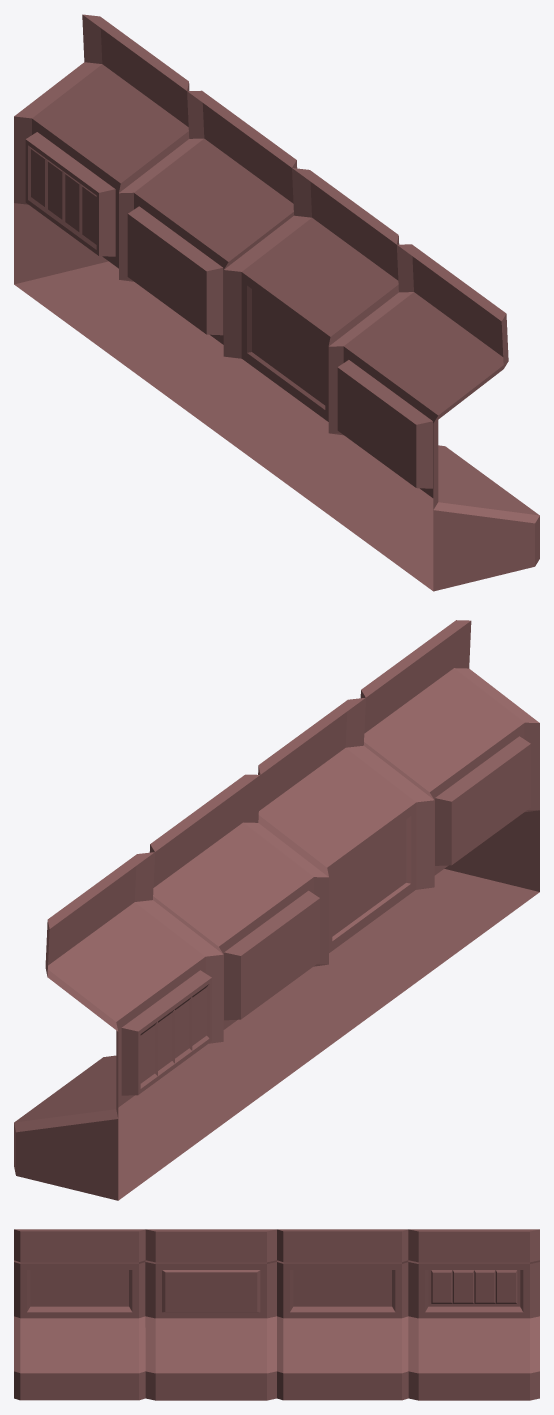
File: Module_Ss_wall_B1.FBX
The picture shows the model from 3 angles, top to bottom: view 1: azimuth 30°, elevation 25°; view 2: azimuth 150°, elevation 25°; view 3: azimuth 270°, elevation 25°; orthographic projection. The views are drawn at different scales.
Visible parts, largest first — view 1: Module_Ss_wall_B1; view 2: Module_Ss_wall_B1; view 3: Module_Ss_wall_B1.
Part boxes in pixels (box(x1,y1,x2,y2)): Module_Ss_wall_B1: box(14, 14, 539, 591); Module_Ss_wall_B1: box(14, 620, 539, 1200); Module_Ss_wall_B1: box(14, 1229, 539, 1400).
Size of the model in its own units: 18.83 by 39.64 by 118.
